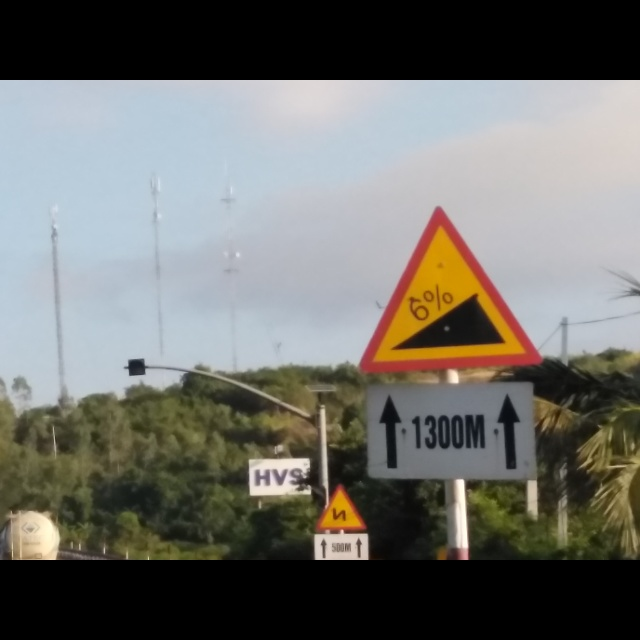Dốc lên nguy hiểm: (360, 198, 545, 371)
Ngoặt nguy hiểm liên tiếp bên phải: (315, 484, 368, 532)
